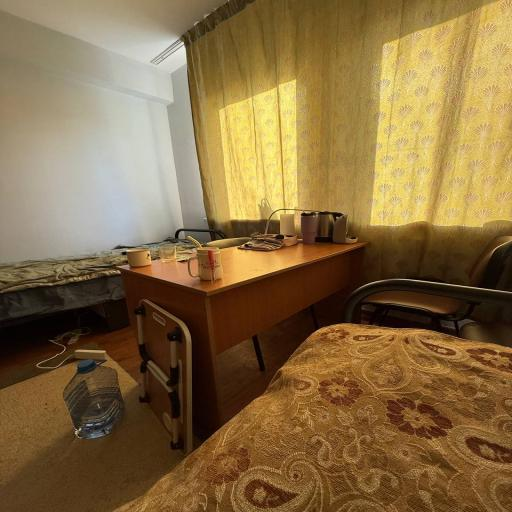bench: (63, 360, 124, 438), (301, 212, 317, 243)
bus: (342, 279, 511, 323), (364, 290, 479, 335), (175, 228, 250, 248), (203, 238, 250, 248)
person: (119, 324, 511, 511), (0, 246, 127, 325)
stroller: (120, 242, 366, 435)
